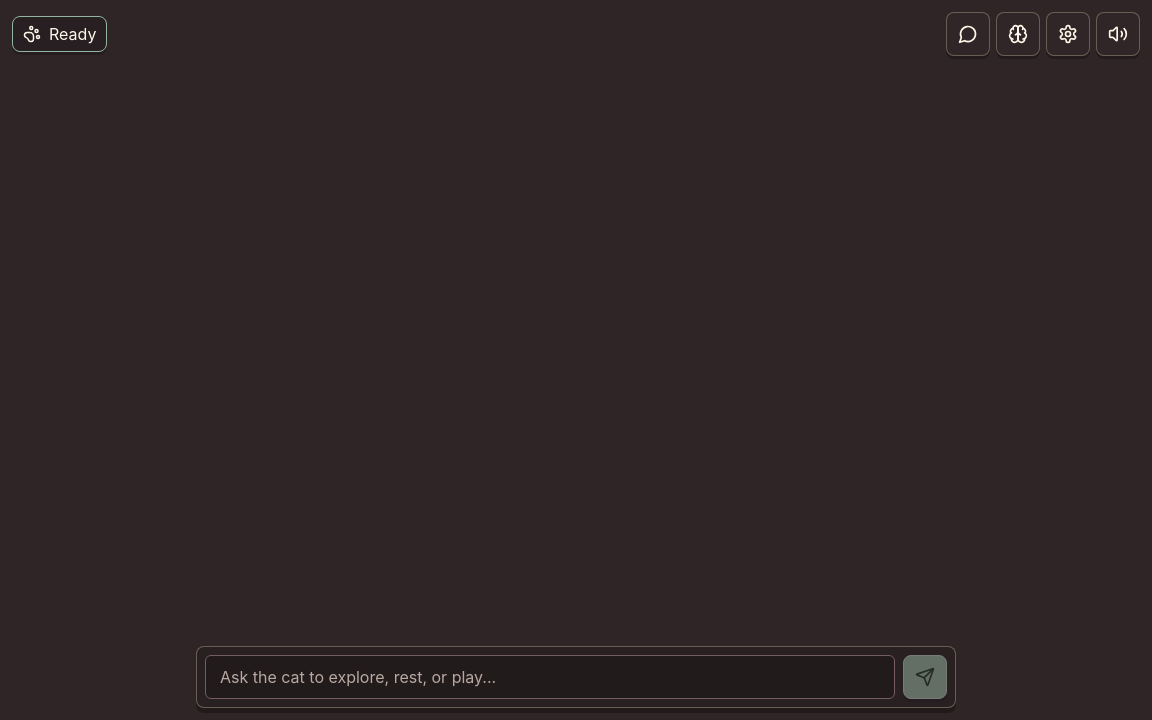
Scenario: natural language game interface › renders drawer fetch errors and retries without an unhandled rejection
Expected: the text "Ready" is shown, [49, 24, 96, 44]
Click the button named "Open memories". click: (1018, 34)
box: [996, 12, 1040, 56]
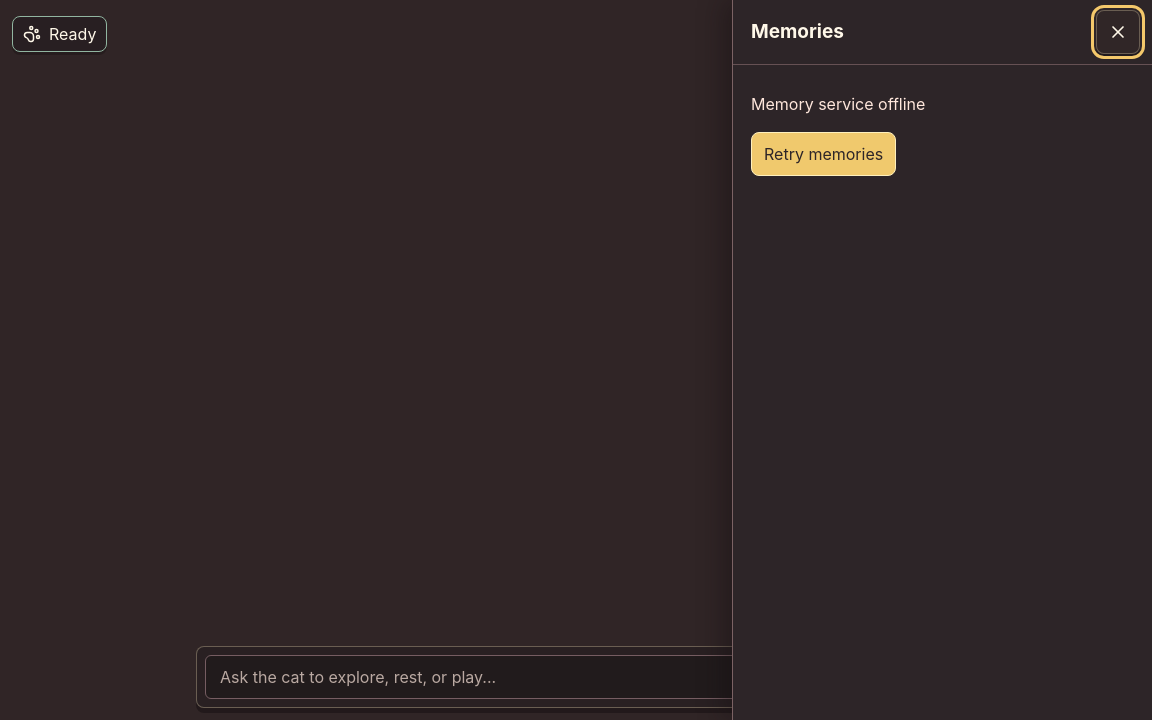
Expected: the message "Memory service offline Retry memories" is shown, [751, 94, 925, 176]
Click the button "Retry memories". click: (824, 154)
box: [751, 132, 896, 176]
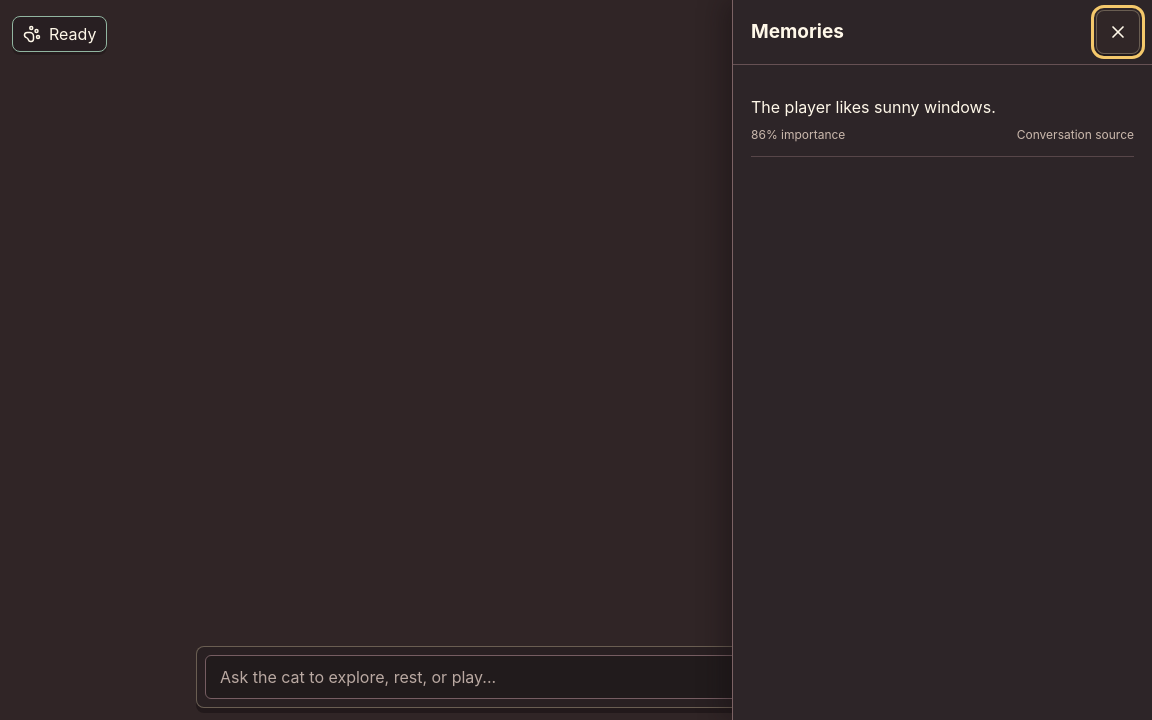
Expected: the text "The player likes sunny windows." is shown, [751, 97, 996, 117]
